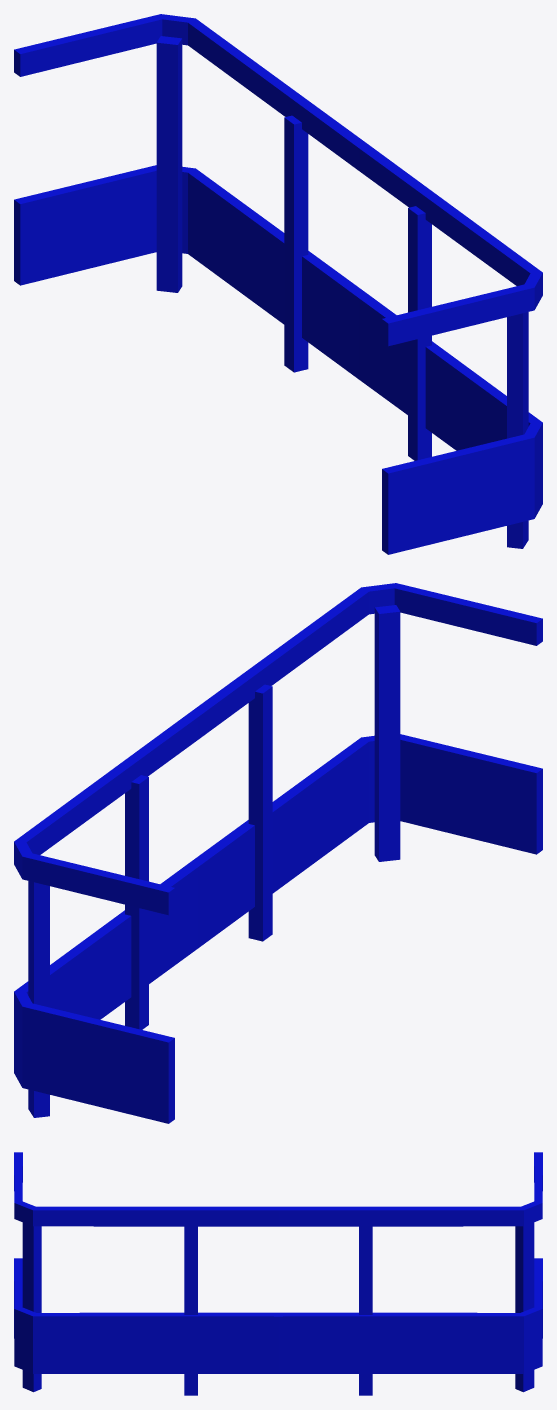
Rendered from SM_VALVE_GRADE.fbx.
The picture shows the model from 3 angles, top to bottom: view 1: azimuth 30°, elevation 25°; view 2: azimuth 150°, elevation 25°; view 3: azimuth 270°, elevation 25°; orthographic projection. The views are drawn at different scales.
Visible parts, largest first — view 1: SM_VALVE_GRADE; view 2: SM_VALVE_GRADE; view 3: SM_VALVE_GRADE.
Boxes of the visible parts, box(x1,y1,x2,y2) form: SM_VALVE_GRADE: box(14, 14, 542, 554); SM_VALVE_GRADE: box(14, 583, 542, 1123); SM_VALVE_GRADE: box(14, 1152, 542, 1395).
Size of the model in its own units: 0.7829 by 1.17 by 3.01.
